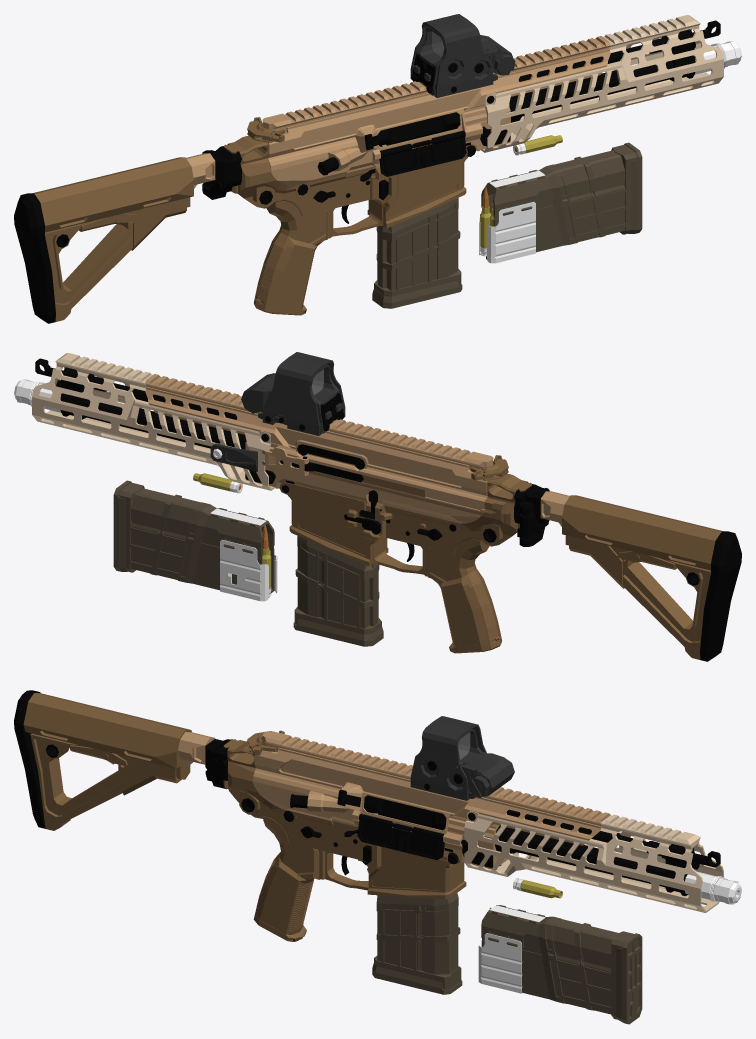
The model's file is sig_mcx_spear_assaulter.glb.
3 renders of one model, top to bottom at view 1: azimuth 30°, elevation 25°; view 2: azimuth 150°, elevation 25°; view 3: azimuth 330°, elevation 25°, orthographic.
Visible parts, largest first — view 1: sig mcx spear assaulter_14, mcx srock butt_13, 277 ar-10 mag 30rnd (lancer).001_1, 277 ar-10 mag empty 30rnd (lancer)_2, eotech xps2_17, mcx spear shutter_4, mcx bolt carrier_3, mcx srock tube_11, mcx stock base_12, mcx assaulter muzzle brake_18, mcx spear charging handle_5; view 2: sig mcx spear assaulter_14, mcx srock butt_13, 277 ar-10 mag 30rnd (lancer).001_1, 277 ar-10 mag empty 30rnd (lancer)_2, eotech xps2_17, mcx srock tube_11, mcx reload handle base_15, mcx stock base_12, mcx reload handle_16, mcx assaulter muzzle brake_18, mcx spear charging handle_5, mcx bolt carrier_3; view 3: sig mcx spear assaulter_14, mcx srock butt_13, 277 ar-10 mag 30rnd (lancer).001_1, 277 ar-10 mag empty 30rnd (lancer)_2, eotech xps2_17, mcx spear shutter_4, mcx bolt carrier_3, mcx srock tube_11, mcx assaulter muzzle brake_18, mcx stock base_12.
Boxes of the visible parts, x1,y1,x2,y2 form: sig mcx spear assaulter_14: (223, 15, 723, 315); mcx srock butt_13: (14, 157, 193, 323); 277 ar-10 mag 30rnd (lancer).001_1: (479, 142, 642, 263); 277 ar-10 mag empty 30rnd (lancer)_2: (372, 146, 462, 308); eotech xps2_17: (410, 14, 515, 97); mcx spear shutter_4: (379, 130, 466, 176); mcx bolt carrier_3: (377, 51, 620, 146); mcx srock tube_11: (186, 150, 226, 188); mcx stock base_12: (202, 144, 241, 199); mcx assaulter muzzle brake_18: (695, 41, 741, 74); mcx spear charging handle_5: (247, 117, 284, 142); sig mcx spear assaulter_14: (32, 353, 532, 653); mcx srock butt_13: (562, 495, 741, 661); 277 ar-10 mag 30rnd (lancer).001_1: (113, 480, 277, 601); 277 ar-10 mag empty 30rnd (lancer)_2: (293, 536, 383, 646); eotech xps2_17: (241, 352, 345, 435); mcx srock tube_11: (517, 488, 569, 538); mcx reload handle base_15: (280, 460, 425, 497); mcx stock base_12: (514, 482, 549, 546); mcx reload handle_16: (262, 446, 308, 475); mcx assaulter muzzle brake_18: (14, 379, 60, 412); mcx spear charging handle_5: (471, 455, 508, 480); mcx bolt carrier_3: (135, 389, 237, 419); sig mcx spear assaulter_14: (223, 731, 723, 941); mcx srock butt_13: (14, 690, 191, 830); 277 ar-10 mag 30rnd (lancer).001_1: (478, 905, 642, 1024); 277 ar-10 mag empty 30rnd (lancer)_2: (372, 893, 462, 994); eotech xps2_17: (410, 716, 514, 800); mcx spear shutter_4: (357, 814, 461, 859); mcx bolt carrier_3: (364, 795, 620, 842); mcx srock tube_11: (178, 731, 228, 775); mcx assaulter muzzle brake_18: (685, 871, 741, 904); mcx stock base_12: (205, 739, 238, 789).
Bounding box in the file's own units: 8.08 × 2.84 × 0.6668.
